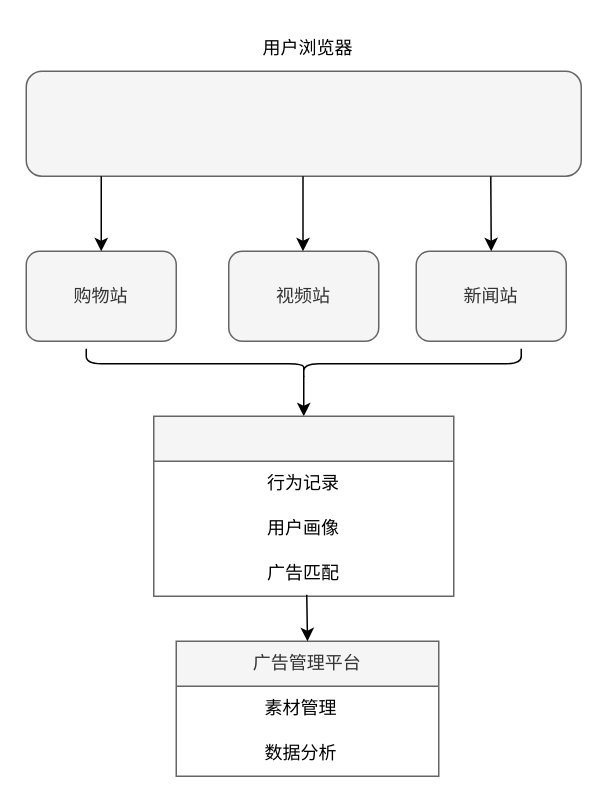
Some shapes in this 608 by 803 pixel diagram are drawn without their labels. The box of each missing label's shape, as (x1, y1, x2, y2) in pixels:
Fingerprint: hash_value: (25, 70, 581, 176)
广告追踪服务: (152, 415, 454, 596)
